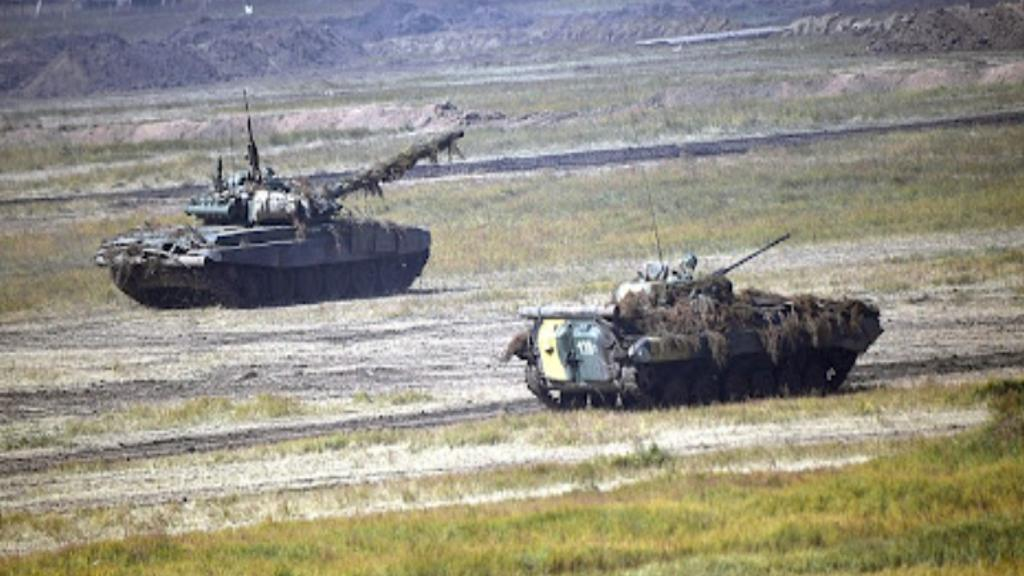APC-IFV: (514, 224, 885, 414)
TANK: (94, 124, 465, 314)
